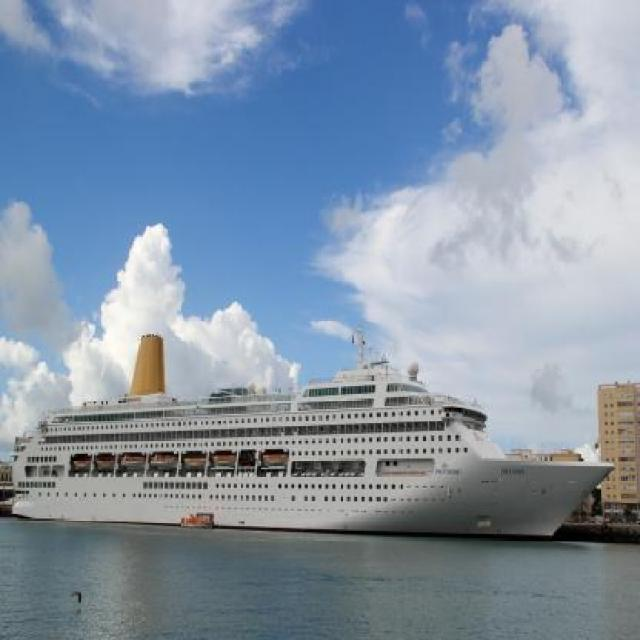ship: (9, 337, 616, 546)
